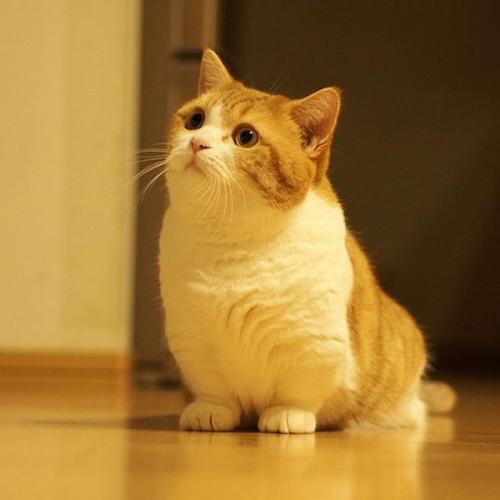cat: (128, 40, 468, 437)
